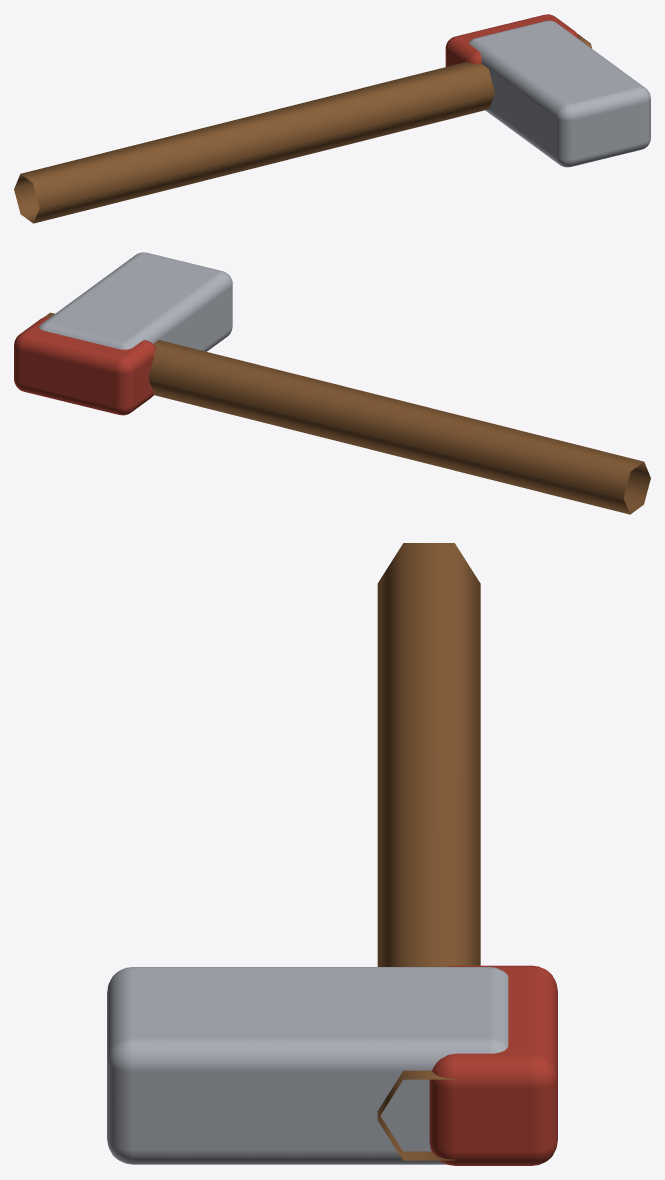
File: item_tool_axe.glb
3 renders of one model, top to bottom at view 1: azimuth 30°, elevation 25°; view 2: azimuth 150°, elevation 25°; view 3: azimuth 270°, elevation 25°, orthographic. The views are drawn at different scales.
Visible parts, largest first — view 1: item_tool_axe_main, item_tool_axe_gloss; view 2: item_tool_axe_main, item_tool_axe_gloss; view 3: item_tool_axe_gloss, item_tool_axe_main.
Boxes of the visible parts, box(x1,y1,x2,y2) form: item_tool_axe_main: box(14, 14, 592, 223); item_tool_axe_gloss: box(469, 20, 650, 167); item_tool_axe_main: box(14, 312, 650, 514); item_tool_axe_gloss: box(39, 252, 232, 351); item_tool_axe_gloss: box(107, 967, 508, 1164); item_tool_axe_main: box(377, 543, 557, 1165).
Bounding box in the file's own units: 0.3001 × 0.032 × 0.105.
